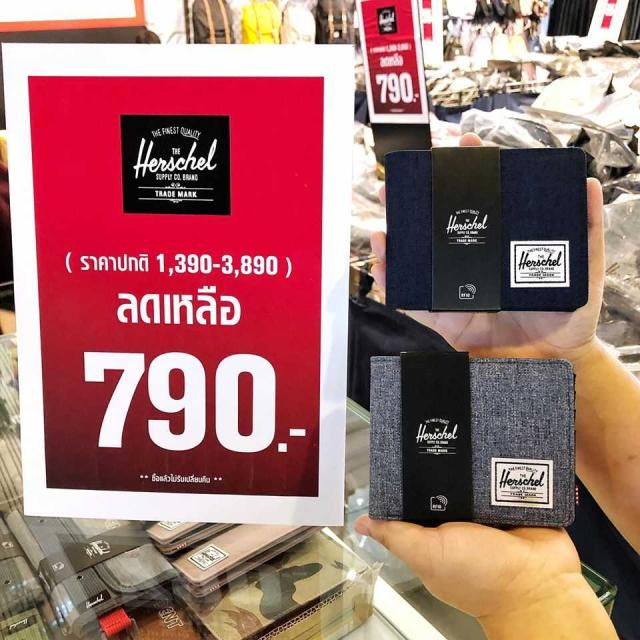Handbag: (368, 347, 578, 529), (380, 145, 592, 314)
